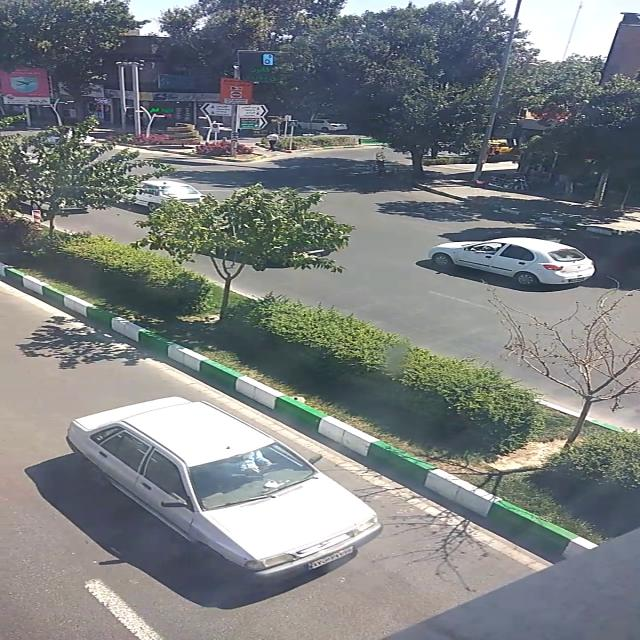car: (65, 396, 382, 580), (428, 238, 594, 284), (125, 180, 212, 214), (298, 118, 348, 131)
